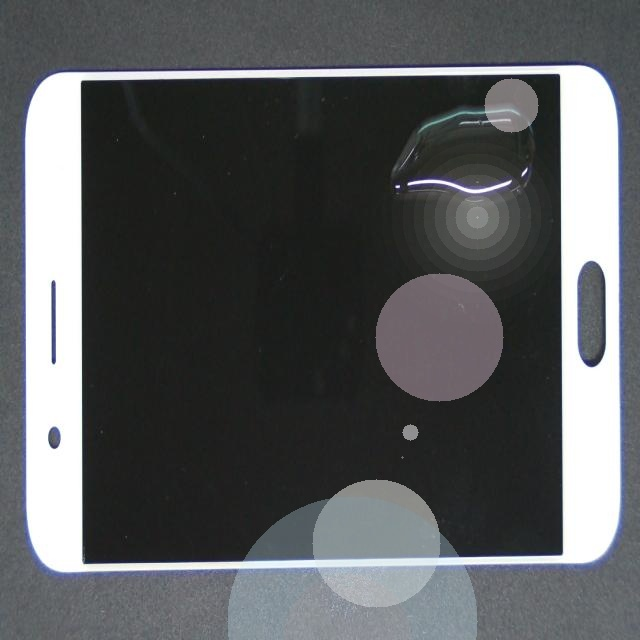oil: (273, 106, 640, 206)
